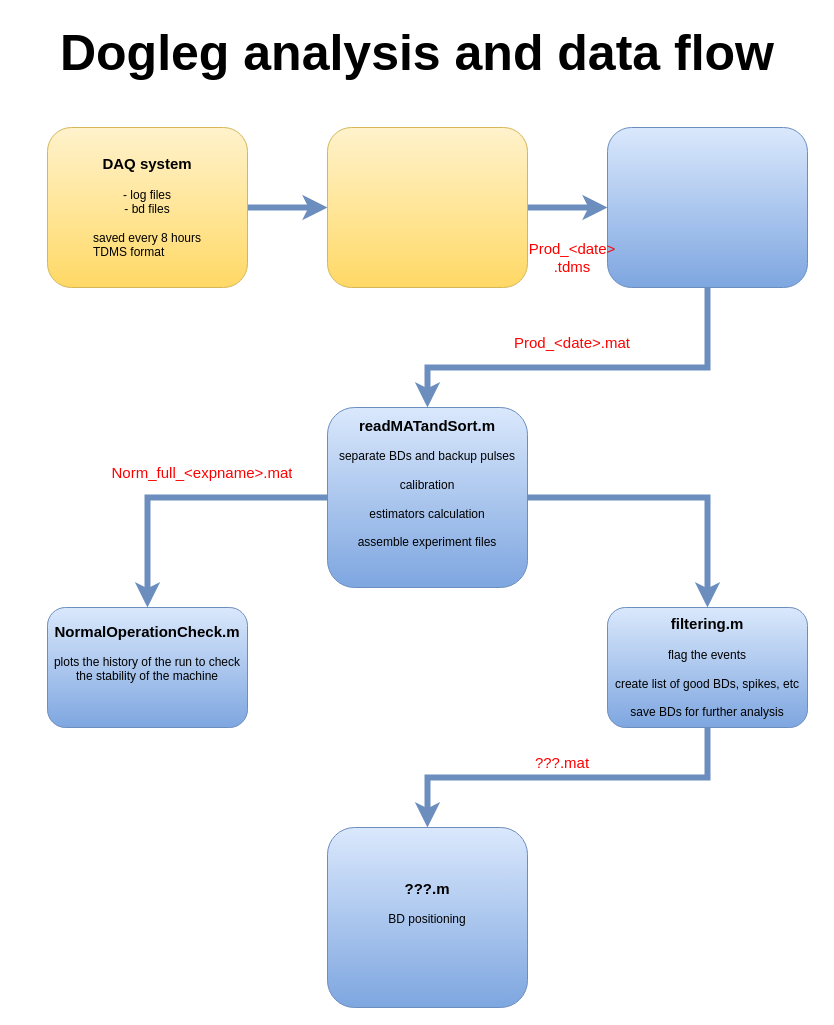
Some shapes in this 834 by 1025 pixel diagram are drawn without their labels. Each missing label, with the centre of its shape:
"LabVIEW script assemble the data in a file per day still TDMS format" belongs at [427,207].
"read_TDMS_full.m converts the daily tdms file into the equivalent mat-file" belongs at [707,207].
